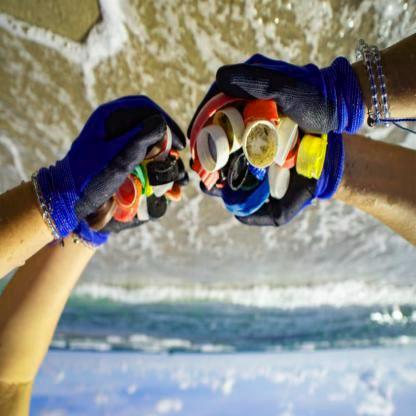Trash: (97, 146, 183, 226), (199, 123, 239, 172), (293, 135, 330, 183), (245, 122, 280, 172)
